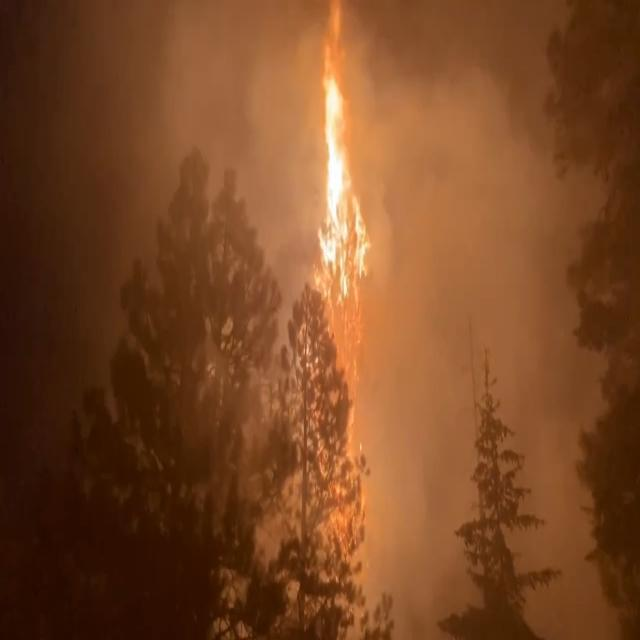Fire: (308, 0, 371, 357)
